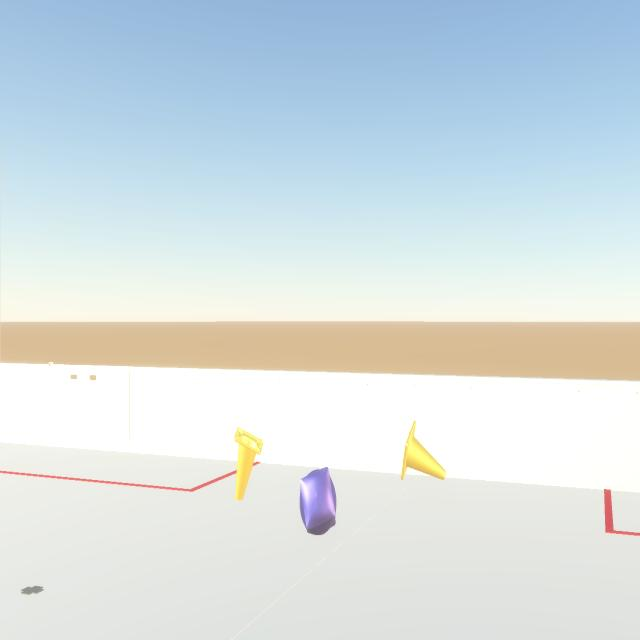frc_cone: (401, 420, 446, 480), (234, 427, 263, 500)
frc_cube: (300, 467, 336, 535)
